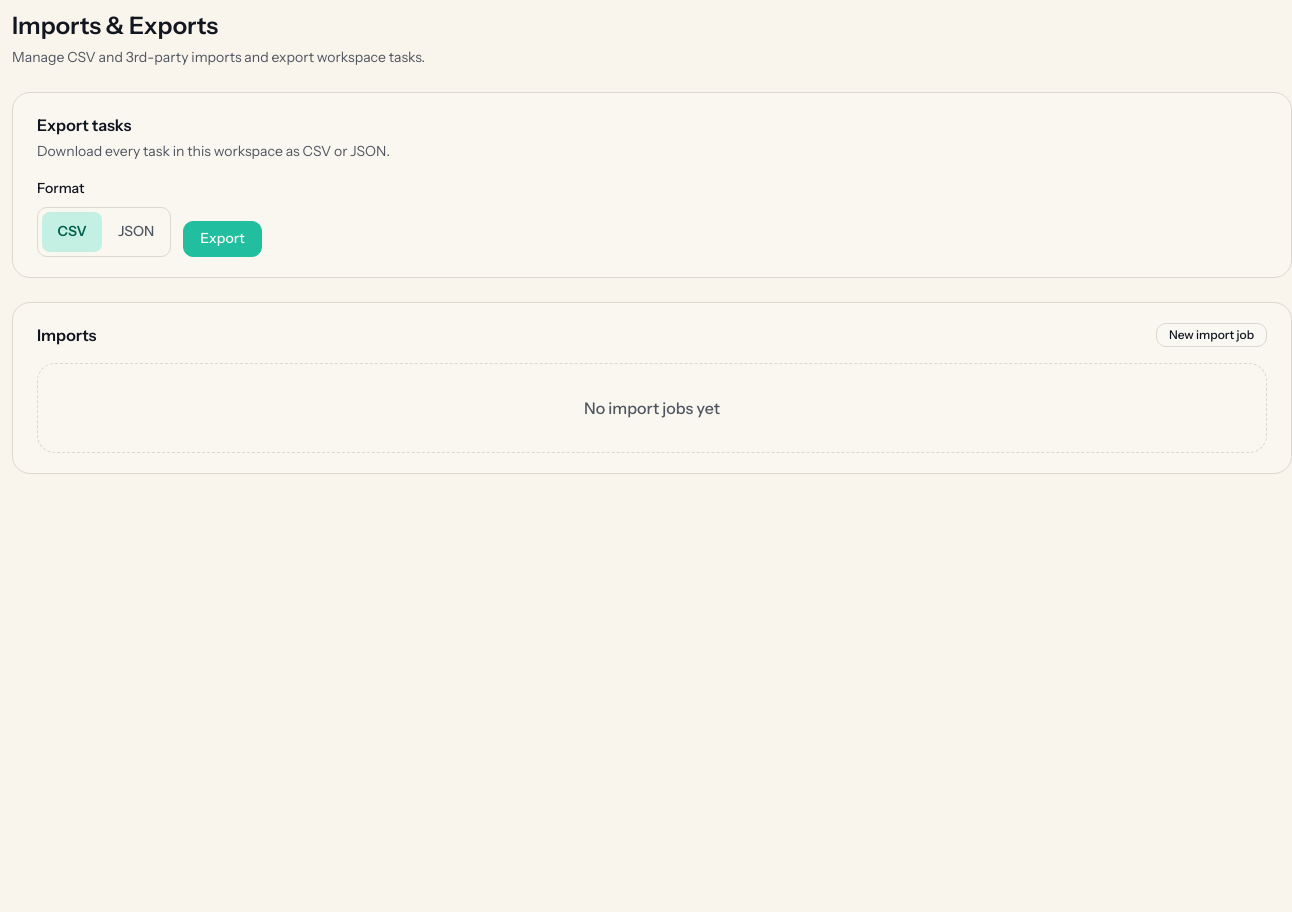
Scenario: import configuration field — credential guidance › tells an unknown key apart from a credential
The image size is (1292, 912).
Click the button "New import job": [1211, 335] box [1156, 323, 1267, 347]
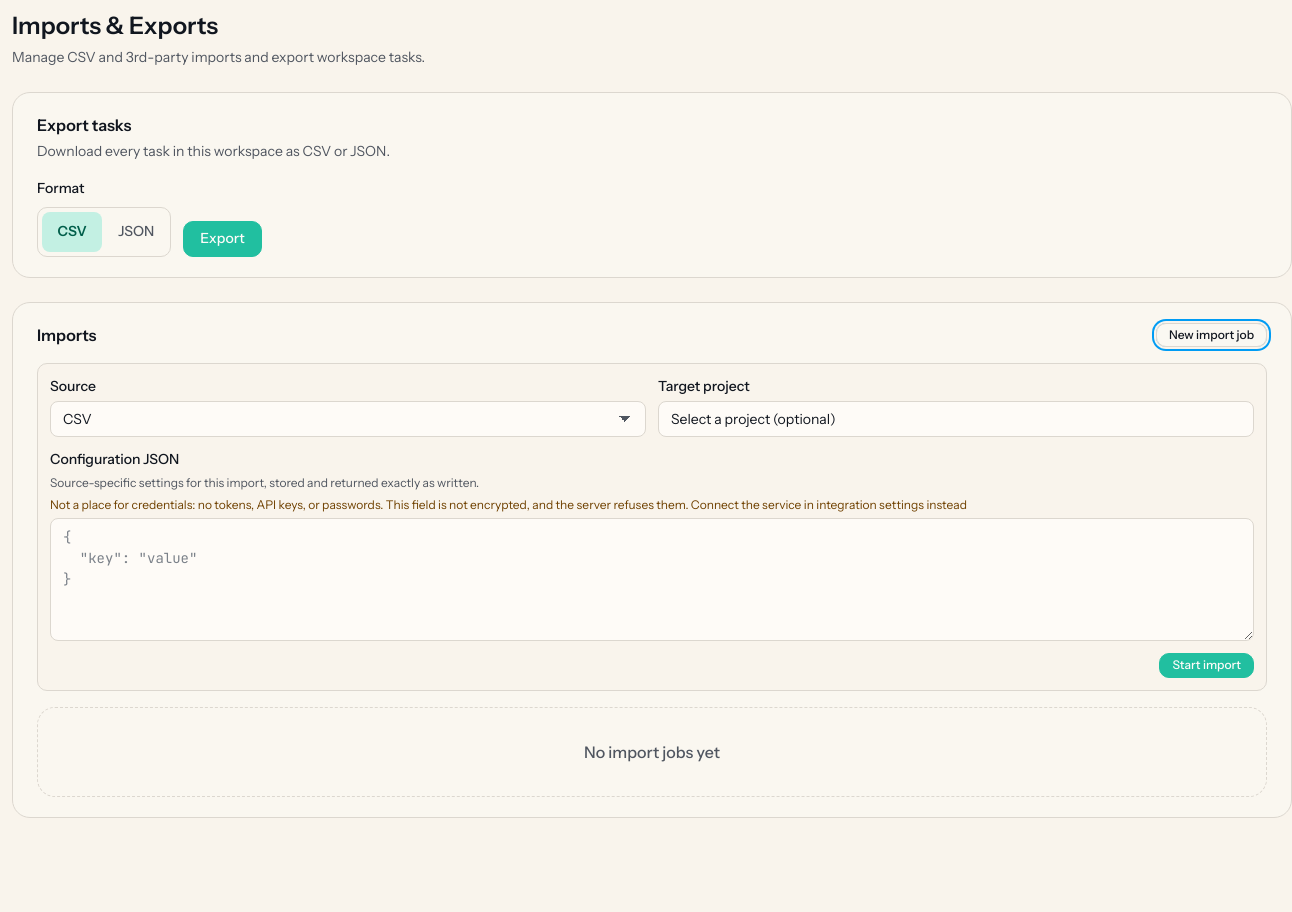
Click the button "Start import": [1207, 665] box [1159, 653, 1254, 678]
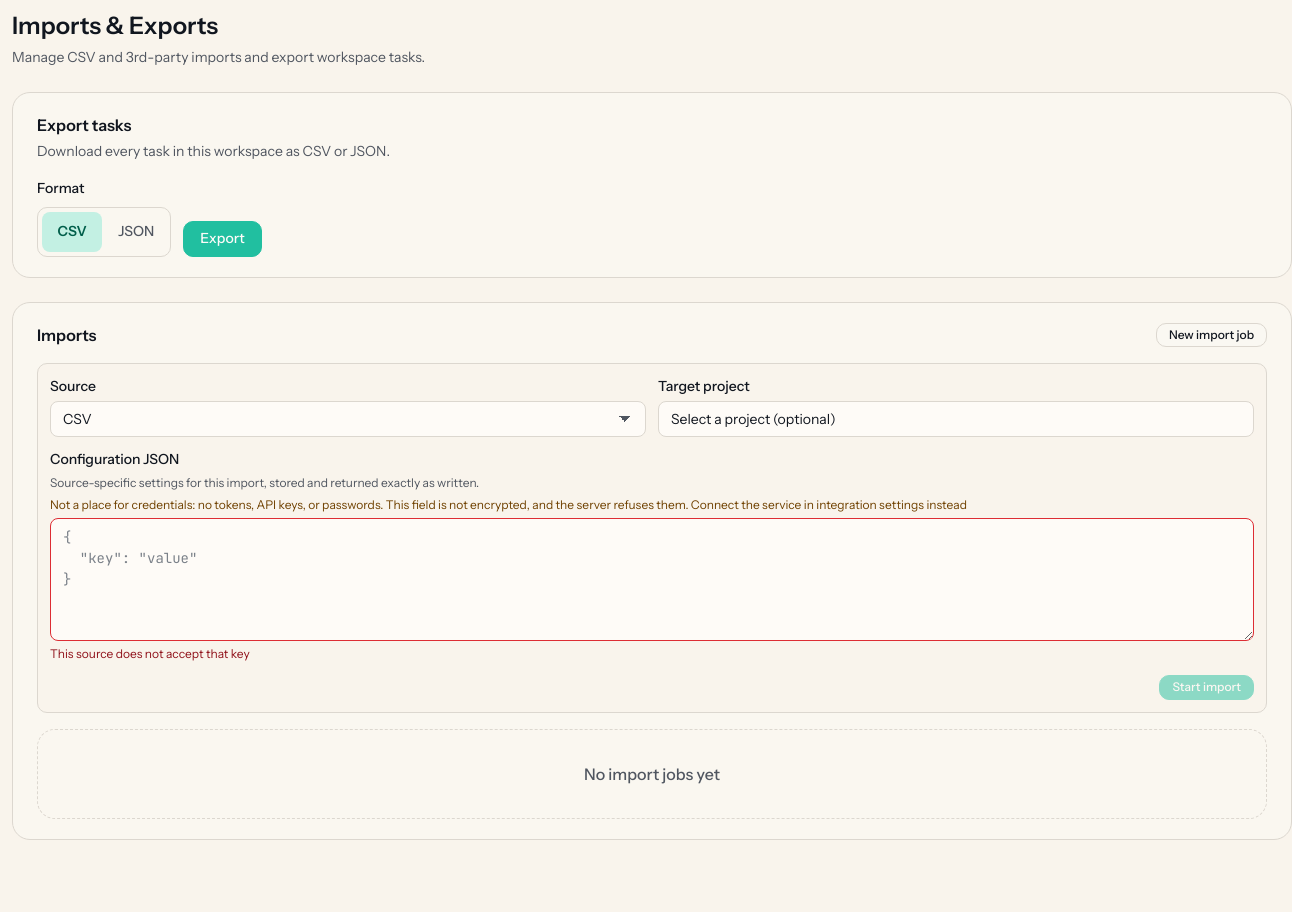
Now the text "This source does not accept that key" is shown, box [50, 646, 250, 661]
